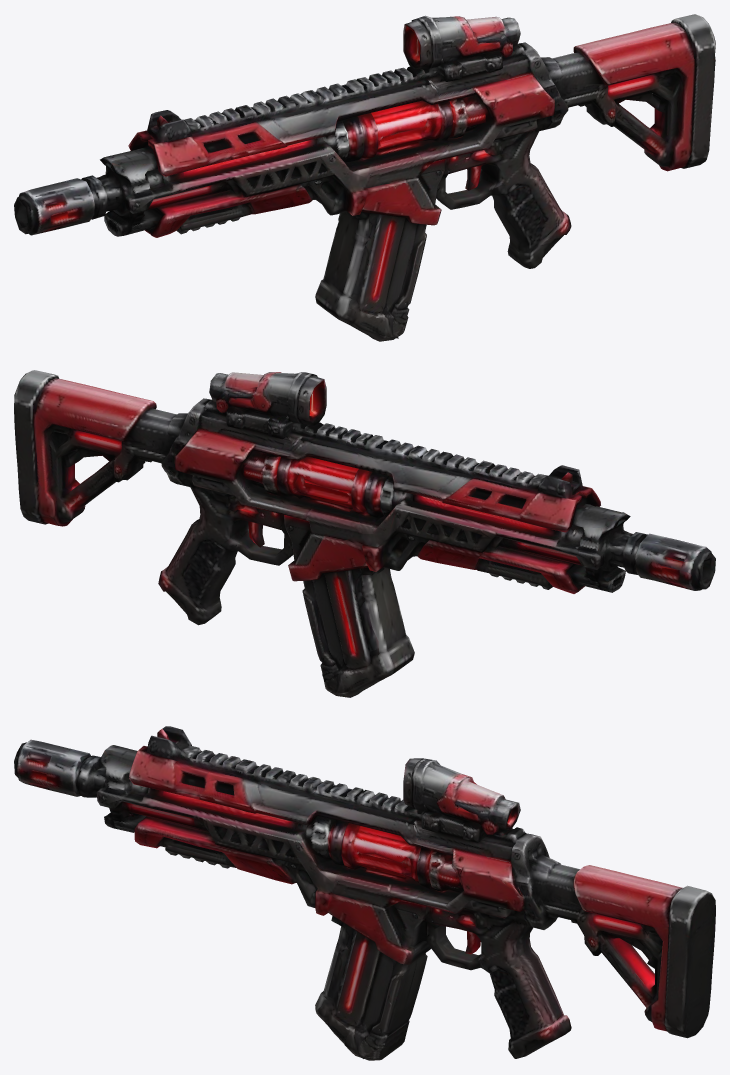
File: tripo_convert_887e76c5-69cc-4d0a-b0a0-9793e92e42e9.fbx
3 views of the same model, one above another, from view 1: azimuth 30°, elevation 25°; view 2: azimuth 150°, elevation 25°; view 3: azimuth 330°, elevation 25° (orthographic).
Parts seen in each view (by area): view 1: tripo_node_887e76c5; view 2: tripo_node_887e76c5; view 3: tripo_node_887e76c5.
Part boxes in pixels (bbox=[...]): tripo_node_887e76c5: bbox=[14, 14, 715, 341]; tripo_node_887e76c5: bbox=[14, 370, 715, 697]; tripo_node_887e76c5: bbox=[14, 726, 715, 1060].
Bounding box in the file's own units: 1 × 0.4228 × 0.0984.
1 material, 1 textured.
